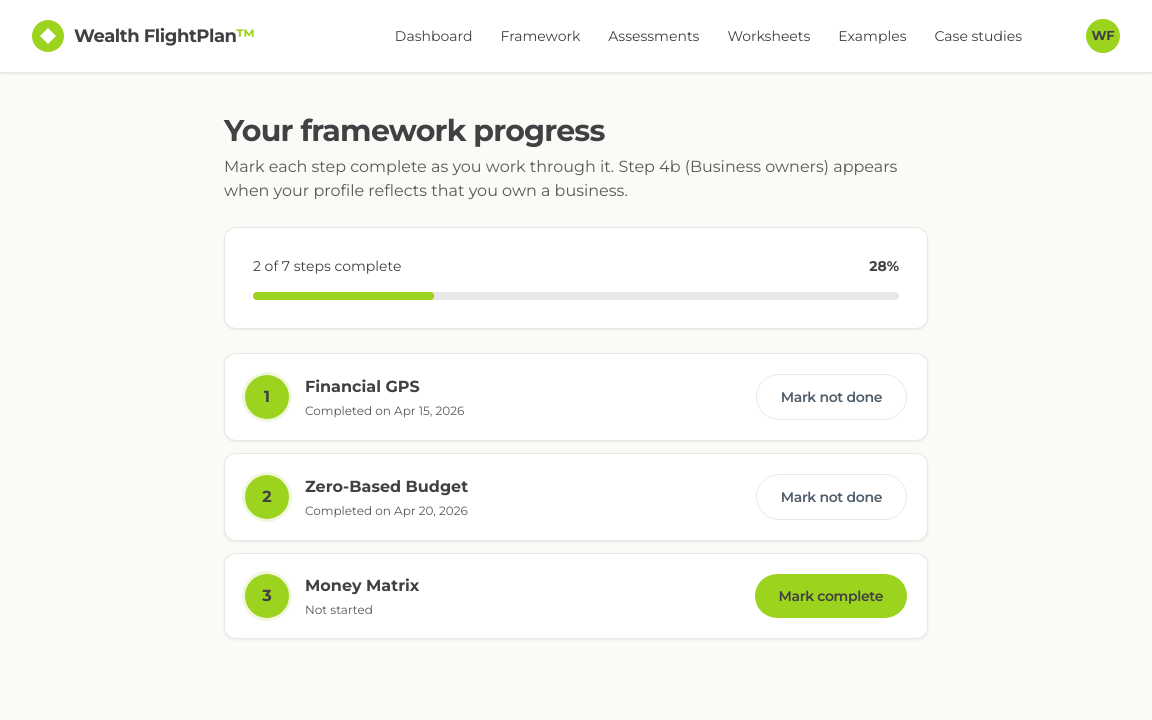
ProgressPage › reverts the optimistic flip when the server errors
The width and height of the screenshot is (1152, 720).
Expected: the link "Money Matrix" is shown, 305,576 -> 419,595
Click the button with aria-label "mark step 3 complete". click: (831, 596)
box: 755,574 -> 907,618
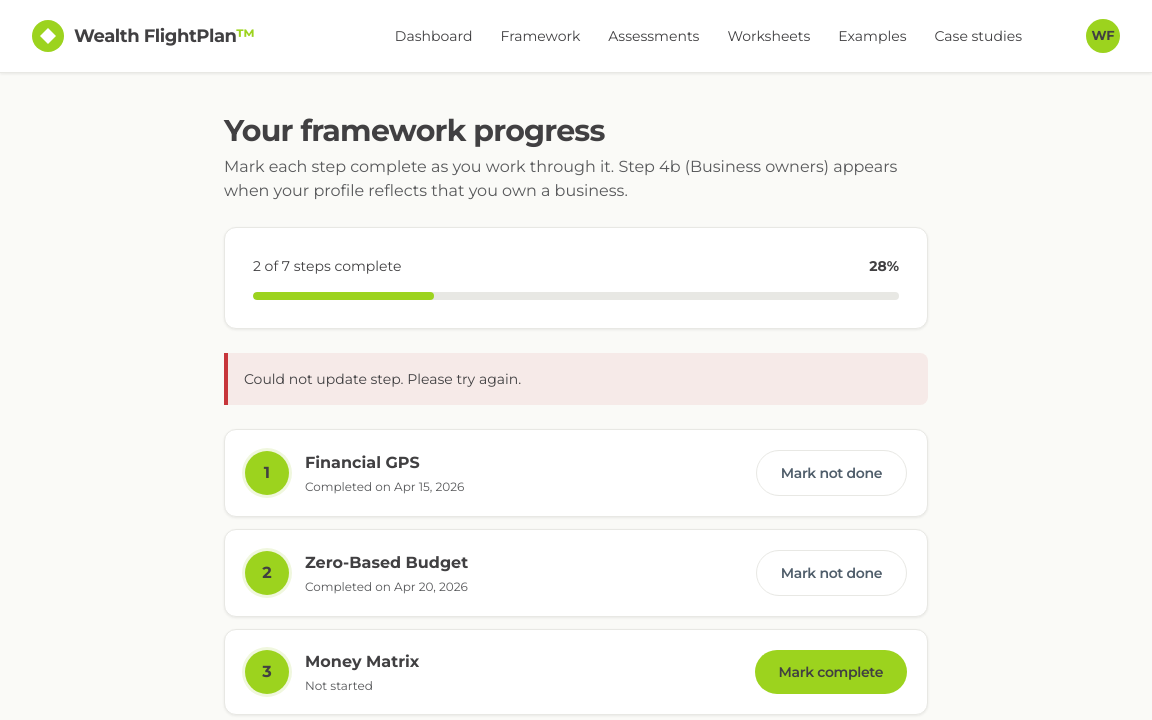
Expected: the button with aria-label "mark step 3 complete" is enabled, 755,650 -> 907,694
Expected: the text "Could not update step. Please try again." is shown, 244,370 -> 521,388
